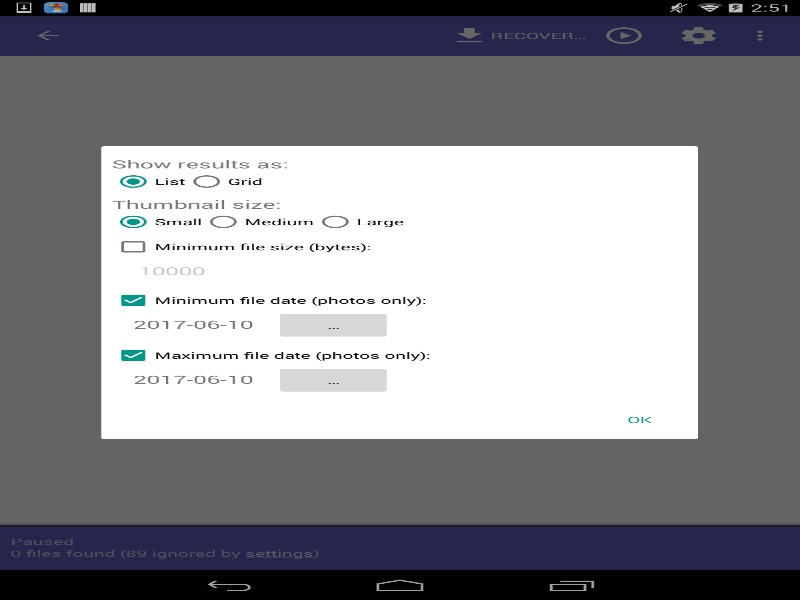Button: (274, 310, 392, 340), (274, 365, 392, 395), (596, 402, 682, 436)
Input: (133, 256, 666, 285)
